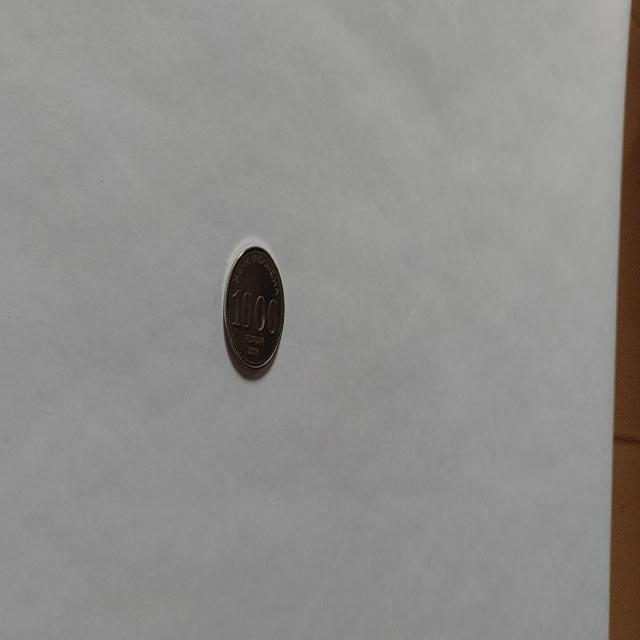seribu rupiah koin: (222, 240, 286, 380)
